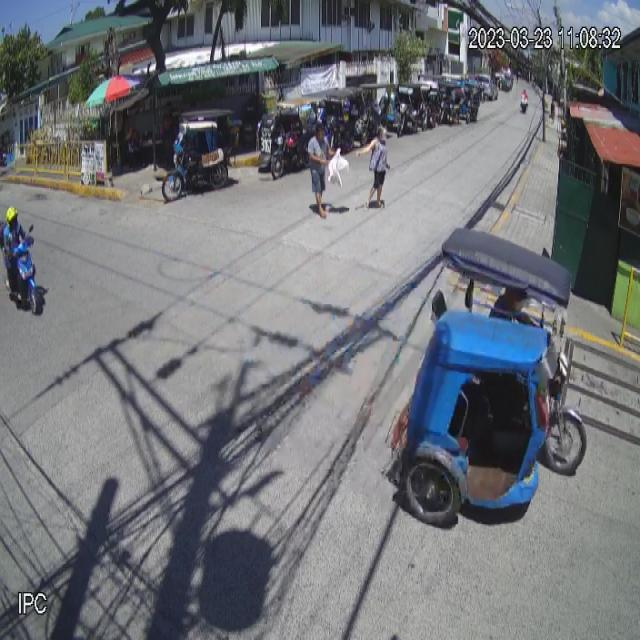Motorcycle: (0, 219, 39, 316)
Tricycle: (388, 227, 586, 526)
